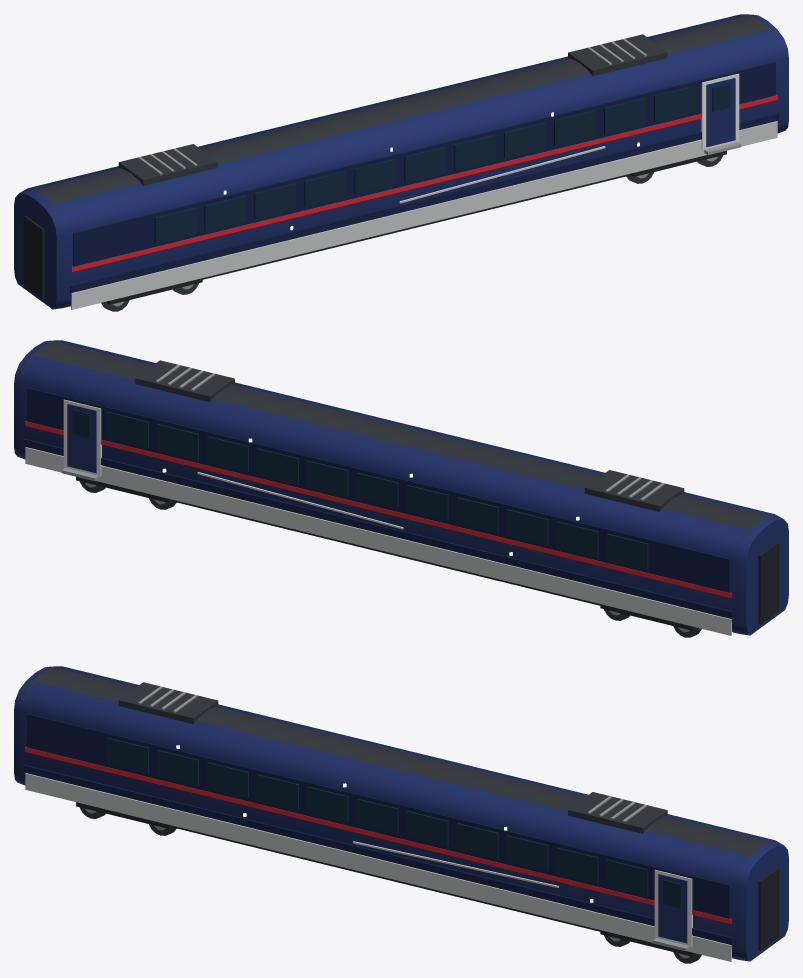
The model's file is nightjet-new-generation-sleeping-a.glb.
3 views of the same model, one above another, from view 1: azimuth 30°, elevation 25°; view 2: azimuth 150°, elevation 25°; view 3: azimuth 330°, elevation 25° (orthographic).
Parts seen in each view (by area): view 1: nightjet_sleeping_a_lofted_body, sleeping_a_silver_skirt_-1, sleeping_a_window_backdrop_-1, sleeping_a_roof_cap, sleeping_a_dark_sill_-1, sleeping_a_red_belt_-1, sleeping_a_roof_hvac_0, sleeping_a_roof_hvac_1, gangway_1, sleeping_a_door_leaf_-1, sleeping_a_window_-1_6, sleeping_a_window_-1_1 (+12 smaller); view 2: nightjet_sleeping_a_lofted_body, sleeping_a_silver_skirt_1, sleeping_a_window_backdrop_1, sleeping_a_roof_cap, sleeping_a_dark_sill_1, sleeping_a_red_belt_1, sleeping_a_roof_hvac_0, sleeping_a_roof_hvac_1, gangway_1, sleeping_a_door_leaf_1, sleeping_a_window_1_6, sleeping_a_window_1_1 (+14 smaller); view 3: nightjet_sleeping_a_lofted_body, sleeping_a_silver_skirt_-1, sleeping_a_window_backdrop_-1, sleeping_a_roof_cap, sleeping_a_dark_sill_-1, sleeping_a_red_belt_-1, sleeping_a_roof_hvac_0, sleeping_a_roof_hvac_1, gangway_0, sleeping_a_door_leaf_-1, sleeping_a_window_-1_4, sleeping_a_window_-1_3 (+12 smaller).
Part boxes in pixels (x1,y1,x2,y2): nightjet_sleeping_a_lofted_body: [14, 14, 788, 309]; sleeping_a_silver_skirt_-1: [71, 121, 777, 309]; sleeping_a_window_backdrop_-1: [73, 61, 775, 266]; sleeping_a_roof_cap: [27, 14, 780, 222]; sleeping_a_dark_sill_-1: [70, 113, 778, 292]; sleeping_a_red_belt_-1: [71, 94, 777, 271]; sleeping_a_roof_hvac_0: [118, 144, 218, 185]; sleeping_a_roof_hvac_1: [568, 34, 667, 76]; gangway_1: [23, 215, 44, 298]; sleeping_a_door_leaf_-1: [706, 78, 735, 146]; sleeping_a_window_-1_6: [454, 134, 496, 170]; sleeping_a_window_-1_1: [204, 195, 246, 231]; nightjet_sleeping_a_lofted_body: [14, 340, 788, 635]; sleeping_a_silver_skirt_1: [25, 447, 731, 635]; sleeping_a_window_backdrop_1: [27, 387, 729, 592]; sleeping_a_roof_cap: [22, 340, 775, 548]; sleeping_a_dark_sill_1: [24, 439, 732, 618]; sleeping_a_red_belt_1: [25, 420, 731, 597]; sleeping_a_roof_hvac_0: [584, 470, 684, 511]; sleeping_a_roof_hvac_1: [135, 360, 234, 402]; gangway_1: [758, 541, 779, 624]; sleeping_a_door_leaf_1: [67, 404, 96, 472]; sleeping_a_window_1_6: [306, 460, 348, 496]; sleeping_a_window_1_1: [556, 521, 598, 557]; nightjet_sleeping_a_lofted_body: [14, 666, 788, 961]; sleeping_a_silver_skirt_-1: [25, 773, 731, 961]; sleeping_a_window_backdrop_-1: [27, 713, 729, 918]; sleeping_a_roof_cap: [22, 666, 775, 874]; sleeping_a_dark_sill_-1: [24, 765, 732, 944]; sleeping_a_red_belt_-1: [25, 746, 731, 923]; sleeping_a_roof_hvac_0: [118, 682, 218, 724]; sleeping_a_roof_hvac_1: [568, 792, 667, 833]; gangway_0: [758, 867, 779, 950]; sleeping_a_door_leaf_-1: [658, 874, 687, 943]; sleeping_a_window_-1_4: [306, 786, 348, 822]; sleeping_a_window_-1_3: [256, 774, 298, 810].
Bounding box in the file's own units: 26.56 × 4.36 × 3.45.
